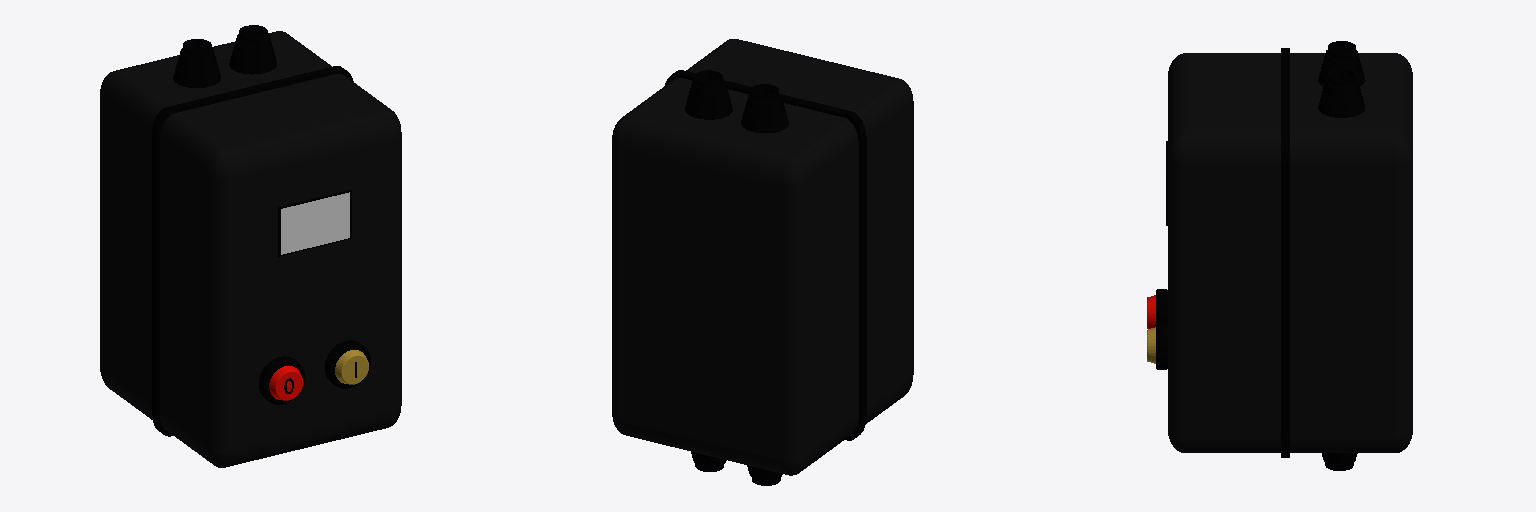
The model's file is electricSwitch.obj.
3 views of the same model, side by side, from view 1: azimuth 30°, elevation 25°; view 2: azimuth 150°, elevation 25°; view 3: azimuth 270°, elevation 25° (orthographic).
Parts seen in each view (by area): view 1: box_Cube.007, ON_Cylinder.010, OFF_Text; view 2: box_Cube.007; view 3: box_Cube.007.
Part boxes in pixels (bbox=[...]): box_Cube.007: bbox=[100, 25, 401, 467]; ON_Cylinder.010: bbox=[335, 350, 368, 384]; OFF_Text: bbox=[269, 366, 302, 400]; box_Cube.007: bbox=[612, 39, 913, 485]; box_Cube.007: bbox=[1156, 41, 1412, 470].
Bounding box in the file's own units: 2.82 × 5.3 × 3.28.